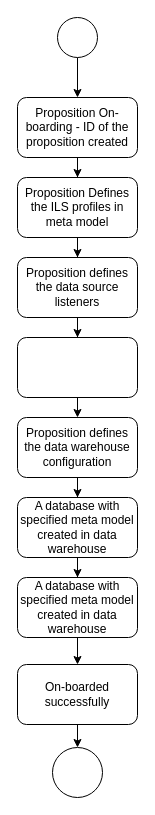
Some shapes in this 155 by 815 pixel diagram are drawn without their labels. The shapes that lost their labels are listed below. From the top down, each one's centre as x and y in pixels, then its label:
point (77, 37): Start
point (77, 367): Data source meta models registered
point (77, 772): Stop
